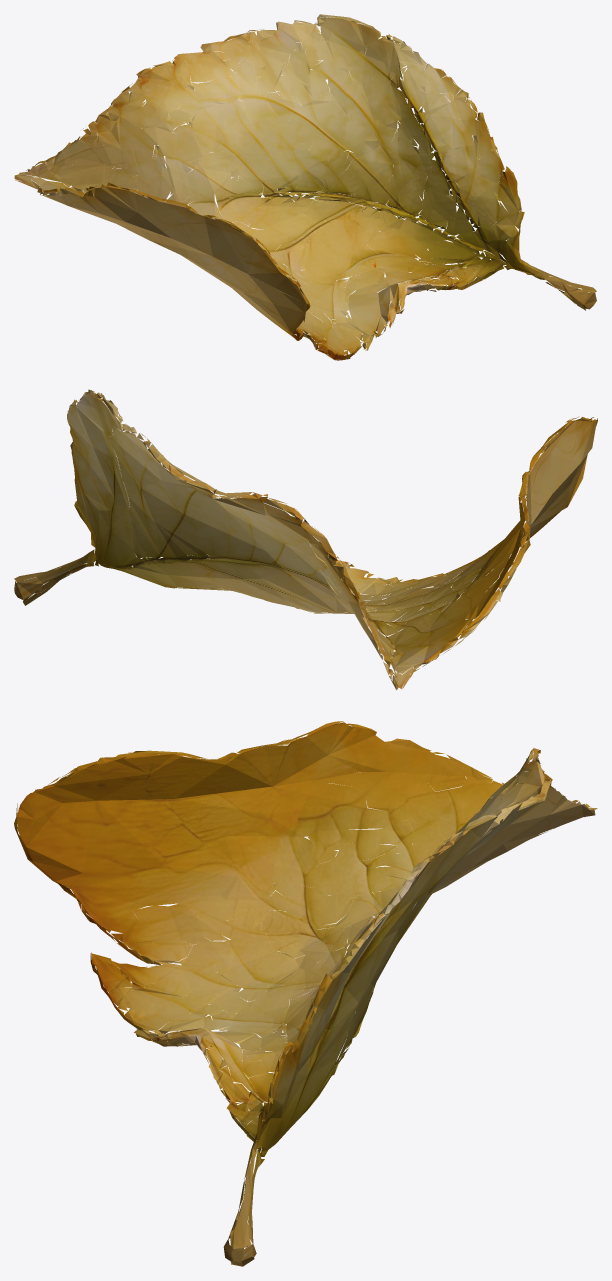
The model's file is fallen_leaf.glb.
3 renders of one model, top to bottom at view 1: azimuth 30°, elevation 25°; view 2: azimuth 150°, elevation 25°; view 3: azimuth 270°, elevation 25°, orthographic. The views are drawn at different scales.
Visible parts, largest first — view 1: textured.obj; view 2: textured.obj; view 3: textured.obj.
Part boxes in pixels (left/top/right/bottom): textured.obj: left=14, top=14, right=596, bottom=360; textured.obj: left=14, top=389, right=597, bottom=690; textured.obj: left=14, top=721, right=597, bottom=1266.
Size of the model in its own units: 0.0602 by 0.0328 by 0.0501.
1 material, 1 textured.
